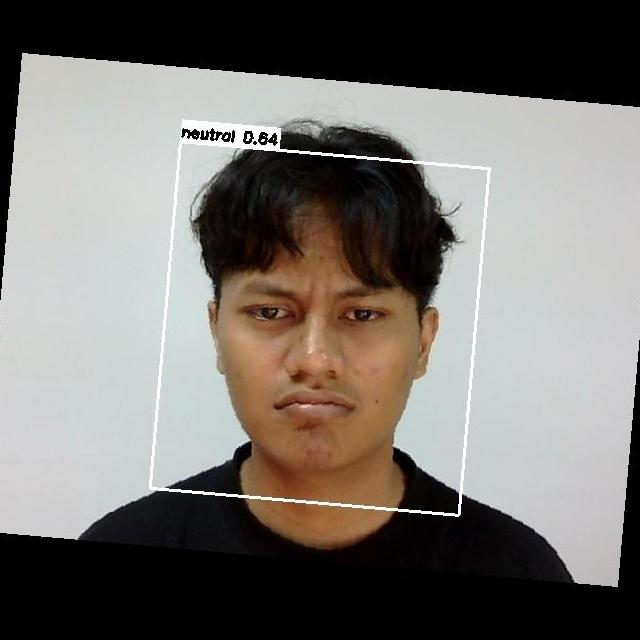Sad: (204, 247, 426, 448)
